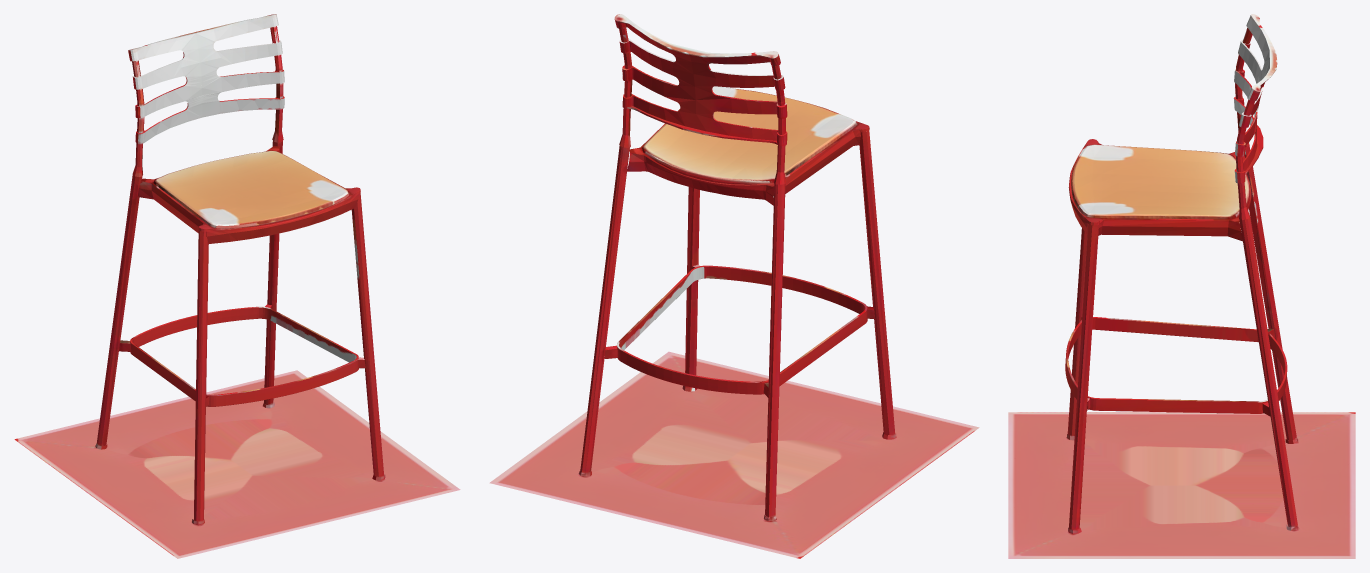
Rendered from edited_mesh.glb.
3 renders of one model, left to right at view 1: azimuth 30°, elevation 25°; view 2: azimuth 150°, elevation 25°; view 3: azimuth 270°, elevation 25°, orthographic. The views are drawn at different scales.
Visible parts, largest first — view 1: normalized_model.obj; view 2: normalized_model.obj; view 3: normalized_model.obj.
Boxes of the visible parts, <box> form: normalized_model.obj: <box>14,14,460,558</box>; normalized_model.obj: <box>489,14,979,558</box>; normalized_model.obj: <box>1008,14,1355,558</box>.
Bounding box in the file's own units: 1.45 × 2 × 1.45.
Materials: 1 (1 with a texture image).
